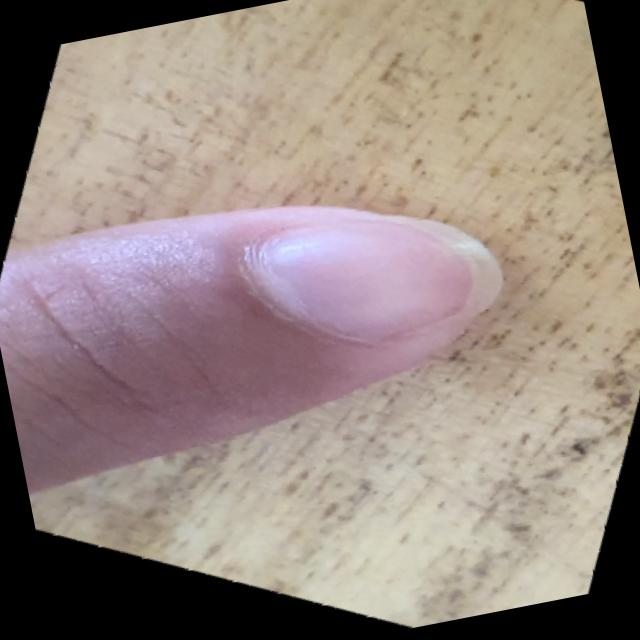Nail: (261, 212, 504, 344)
